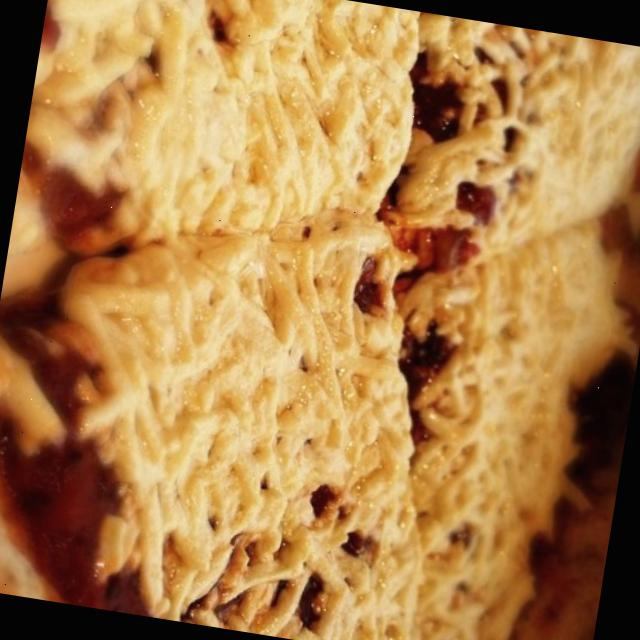cheese: (39, 206, 482, 640), (341, 14, 640, 632), (13, 0, 434, 269)
